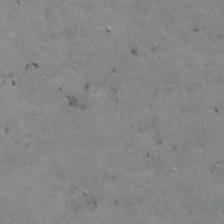Non_Crack: (28, 18, 220, 195)
